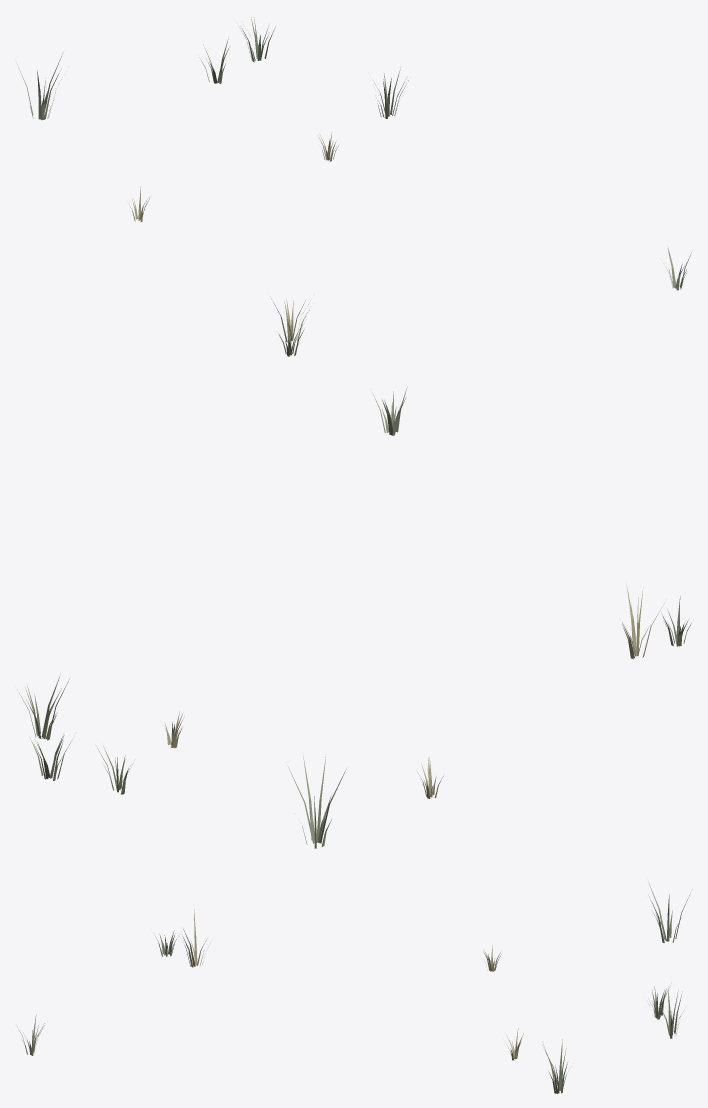
The model's file is AE_Grass_-6_-2.fbx.
3 views of the same model, one above another, from view 1: azimuth 30°, elevation 25°; view 2: azimuth 150°, elevation 25°; view 3: azimuth 270°, elevation 25° (orthographic). The views are drawn at different scales.
Visible parts, largest first — view 1: AE_Grass_-6_-2_LOD0; view 2: AE_Grass_-6_-2_LOD0; view 3: AE_Grass_-6_-2_LOD0.
Boxes of the visible parts, <box> form: AE_Grass_-6_-2_LOD0: <box>16,17,691,356</box>; AE_Grass_-6_-2_LOD0: <box>17,387,691,848</box>; AE_Grass_-6_-2_LOD0: <box>17,881,692,1093</box>.
Size of what is drawn, in the model's own units: 567 by 152 by 1073.
